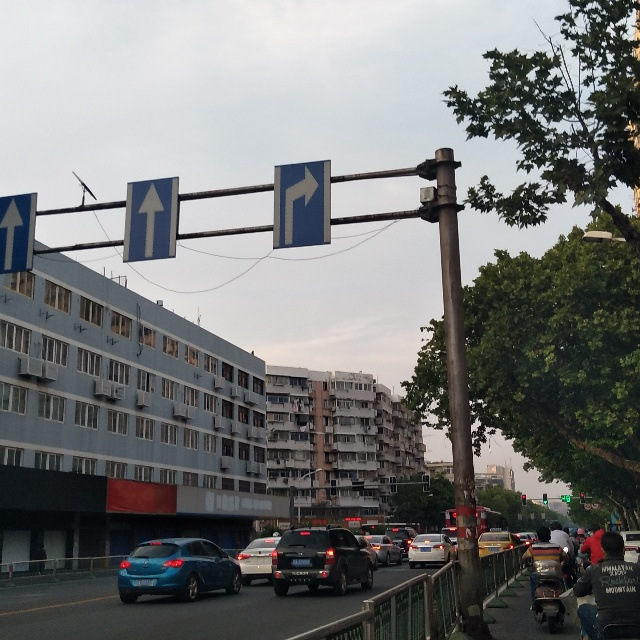right: (276, 165, 328, 252)
straight: (128, 179, 174, 261), (1, 199, 38, 272)
